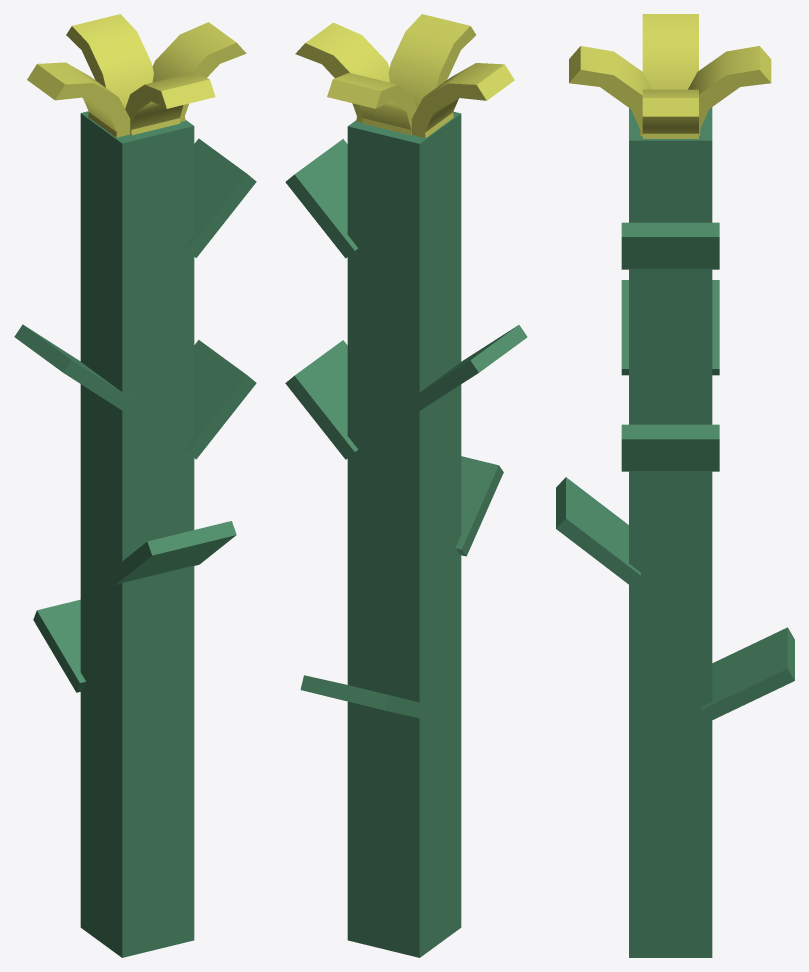
File: Corn.fbx
3 views of the same model, side by side, from view 1: azimuth 30°, elevation 25°; view 2: azimuth 150°, elevation 25°; view 3: azimuth 270°, elevation 25° (orthographic).
Parts seen in each view (by area): view 1: Corn; view 2: Corn; view 3: Corn.
Part boxes in pixels (box(x1,y1,x2,y2)): Corn: box(14, 14, 256, 957); Corn: box(285, 14, 527, 957); Corn: box(556, 14, 794, 957).
Size of the model in its own units: 8.33 by 36.08 by 8.83.
